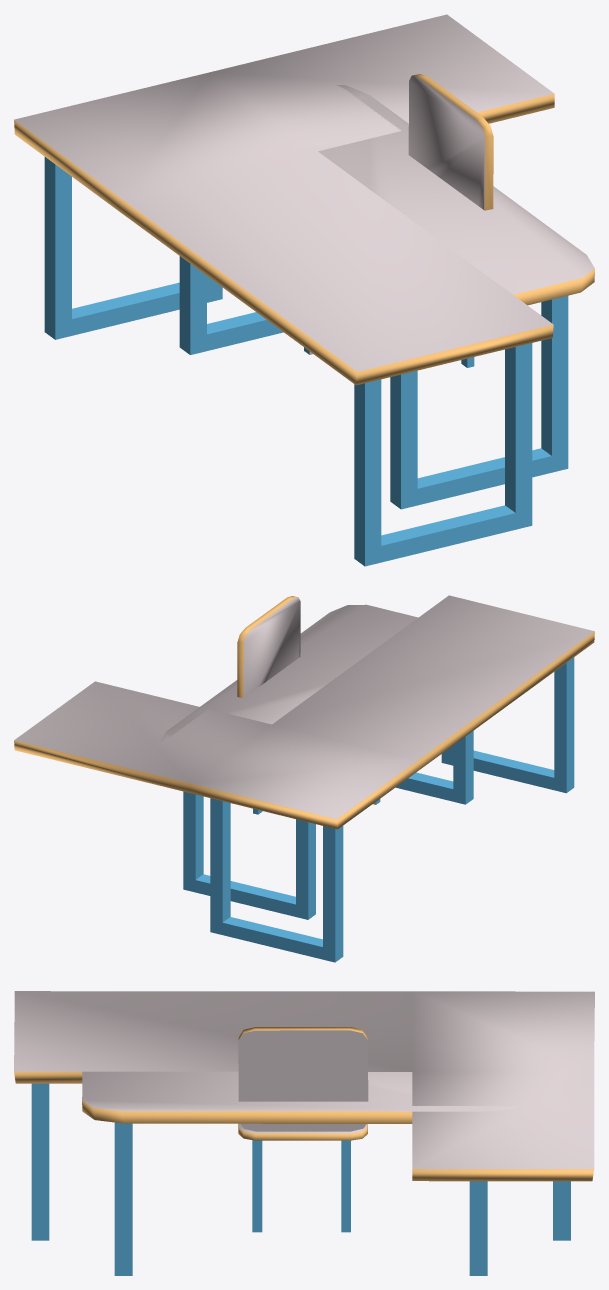
Rendered from Chair and table (1).fbx.
The picture shows the model from 3 angles, top to bottom: view 1: azimuth 30°, elevation 25°; view 2: azimuth 150°, elevation 25°; view 3: azimuth 270°, elevation 25°; orthographic projection. The views are drawn at different scales.
Visible parts, largest first — view 1: manager table, table, chair; view 2: manager table, table, chair; view 3: manager table, table, chair.
Part boxes in pixels (x1,y1,x2,y2): manager table: (14,14,554,566); table: (179,85,594,509); chair: (304,74,493,367); manager table: (14,595,594,962); table: (160,604,473,919); chair: (237,596,380,814); manager table: (14,991,594,1240); table: (82,1071,517,1275); chair: (238,1027,368,1232).
Size of the model in its own units: 4 by 2.56 by 5.5.
